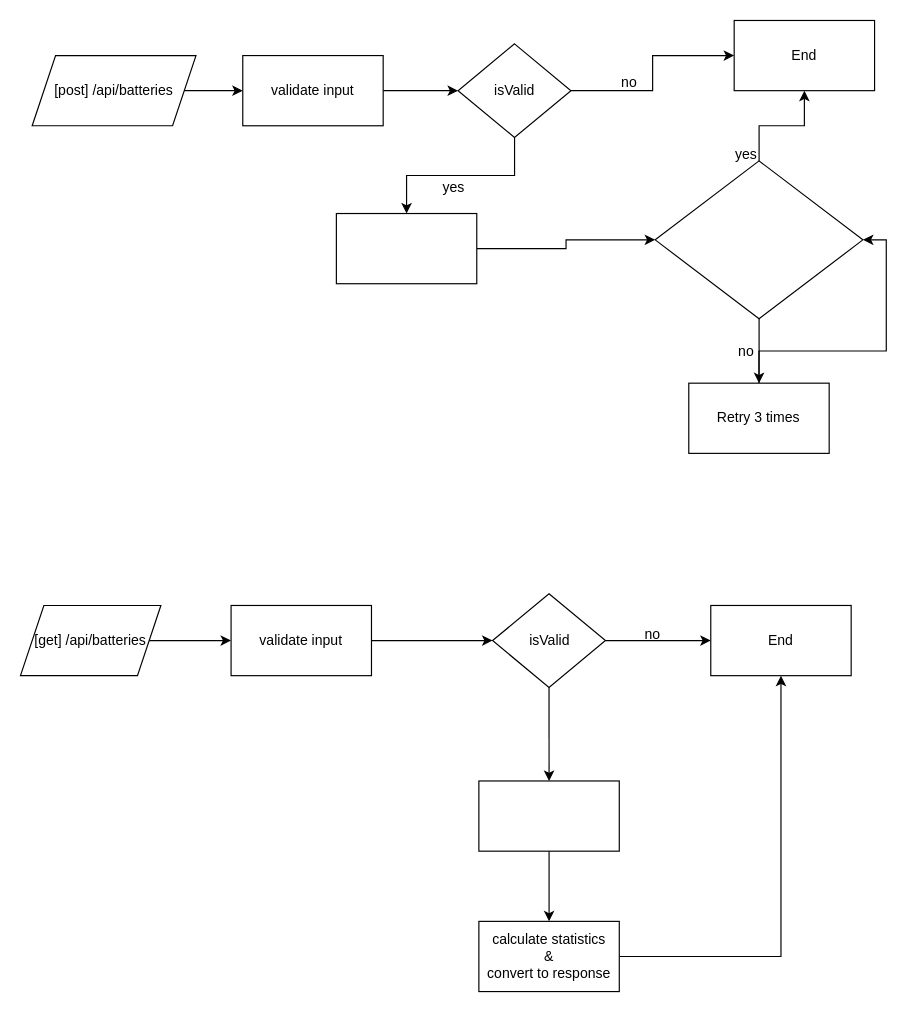
Image size: 916x1012. Some labels were removed from this diagram. The centre of each missing label's shape, as x and y in pixels:
"convert to entity & save db in chunk" goes at (406,248).
"fetch data from db based on condition" goes at (548,815).
"isSuccessful for all chunk? or retry exhausted?" goes at (758,239).
